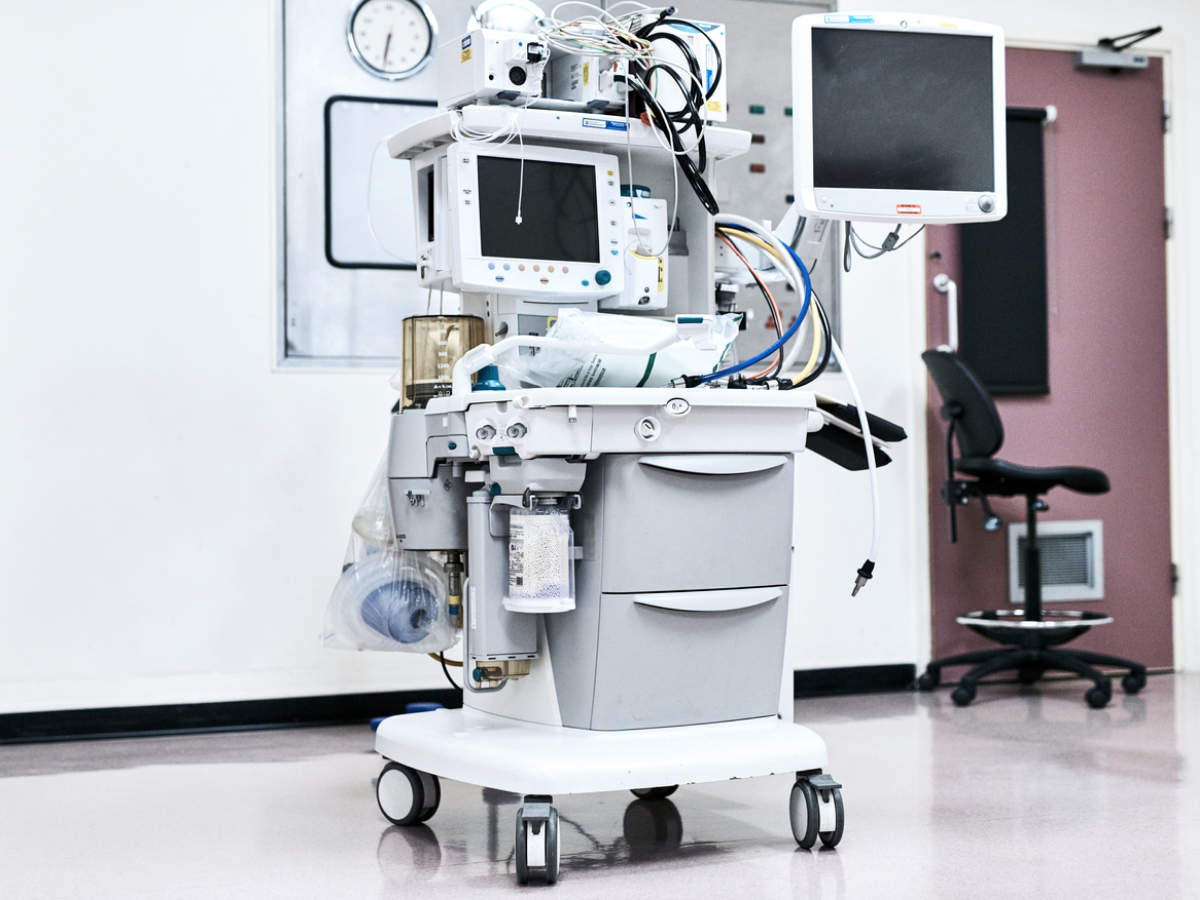bedside_monitor: (788, 1, 1005, 224), (452, 147, 623, 282)
chair: (909, 338, 1147, 716)
handle: (936, 272, 963, 358)
medical_drawer: (589, 447, 806, 730)
ventilator: (397, 141, 823, 750)
